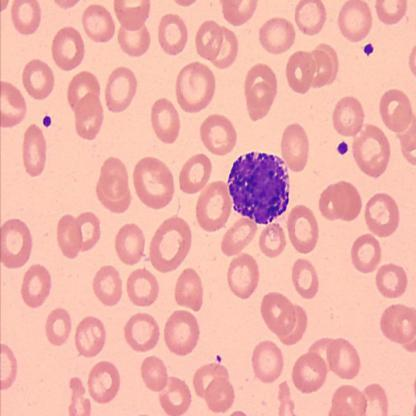Basophil: (226, 148, 292, 227)
